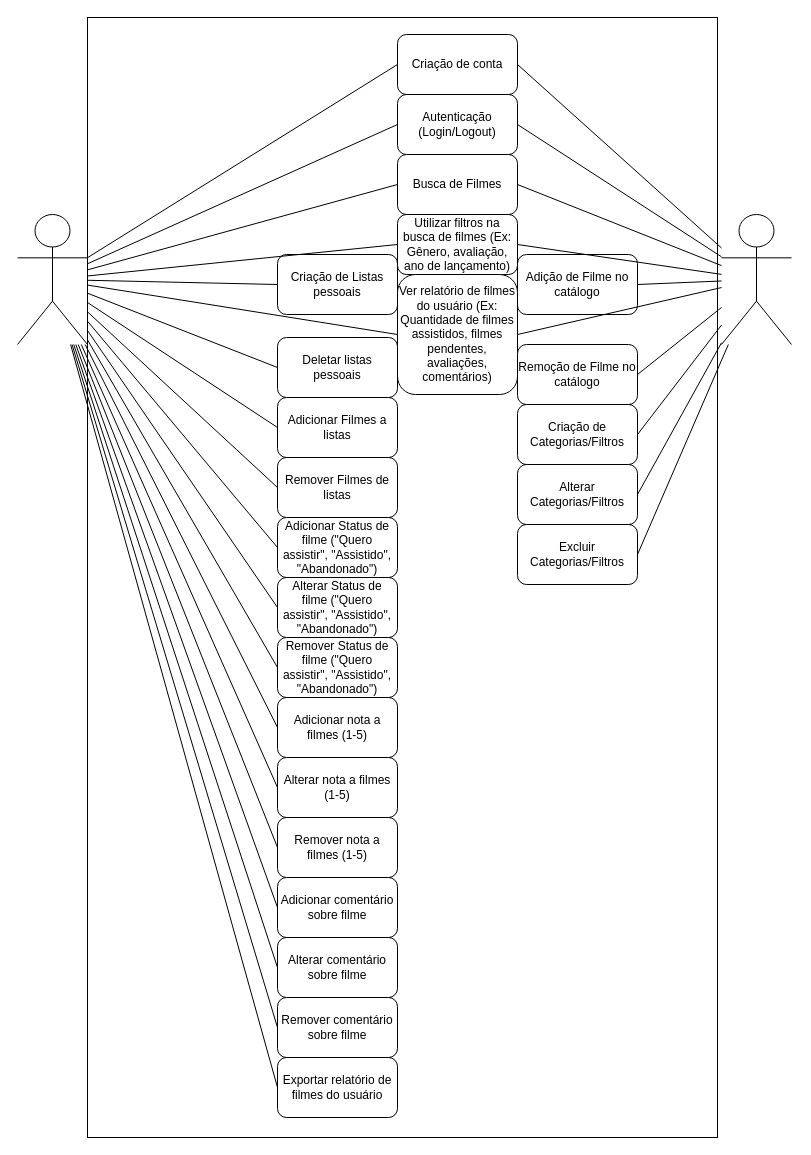
The diagram is 811 pixels wide and 1155 high, and some of its shapes have lost their labels. Here are the shapes that lost their labels. From the top down, the centre of each, then its label:
the point at 52,279: Usuário
the point at 756,279: Administrador
